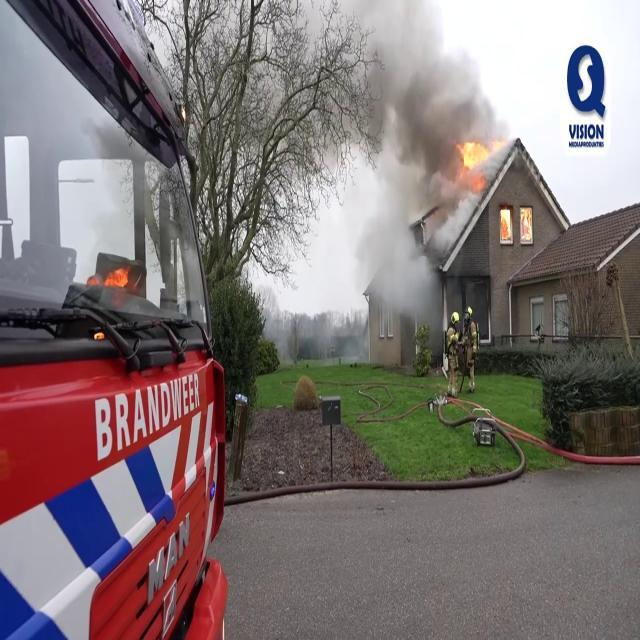Fire: (454, 132, 496, 176), (100, 258, 127, 292), (518, 201, 535, 245)
Smoke: (269, 0, 484, 348)
